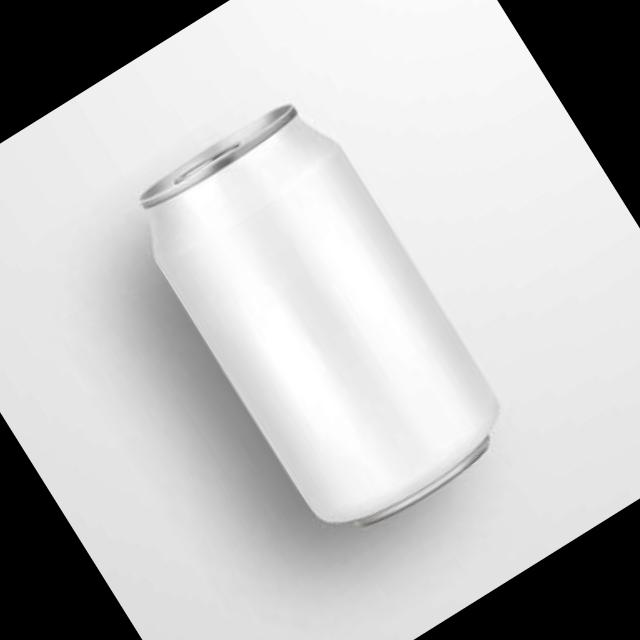Kaleng: (116, 85, 524, 552)
